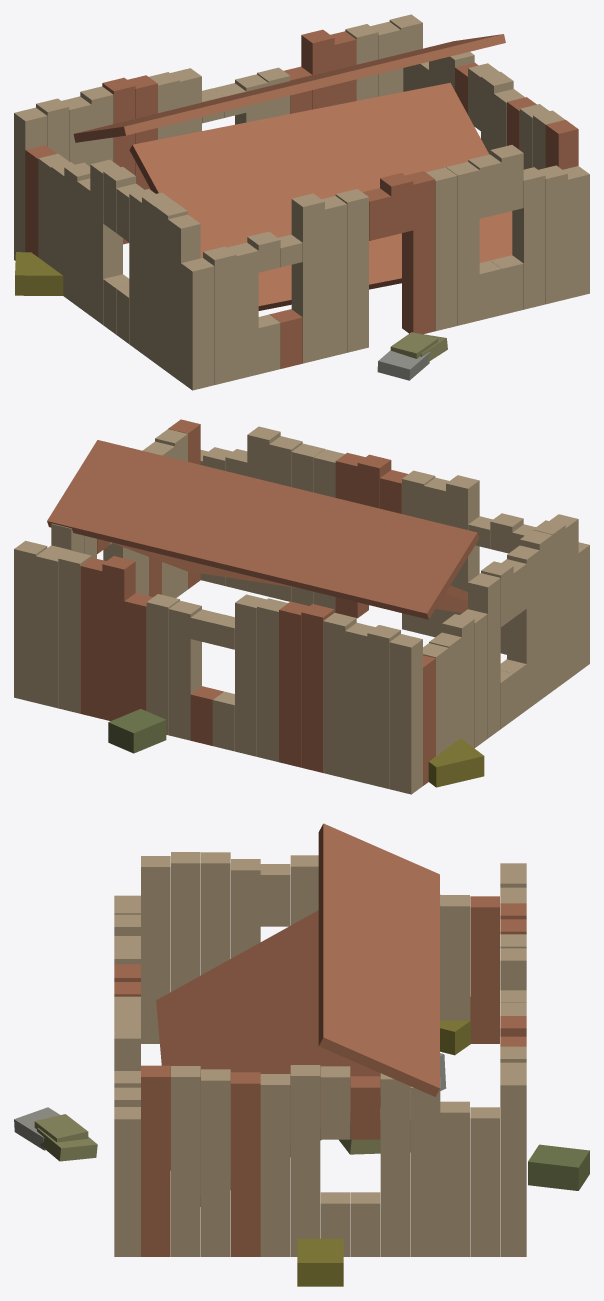
The model's file is SM_CasaRuina_v2_TejadoHundido_LOD1.fbx.
3 renders of one model, top to bottom at view 1: azimuth 30°, elevation 25°; view 2: azimuth 150°, elevation 25°; view 3: azimuth 270°, elevation 25°, orthographic. The views are drawn at different scales.
Parts seen in each view (by area): view 1: SM_casa_ruina_v2_LOD1; view 2: SM_casa_ruina_v2_LOD1; view 3: SM_casa_ruina_v2_LOD1.
Boxes of the visible parts, x1,y1,x2,y2 form: SM_casa_ruina_v2_LOD1: (14, 14, 589, 390); SM_casa_ruina_v2_LOD1: (14, 419, 589, 794); SM_casa_ruina_v2_LOD1: (14, 823, 589, 1286).
Size of the model in its own units: 11 by 4.23 by 9.78.
